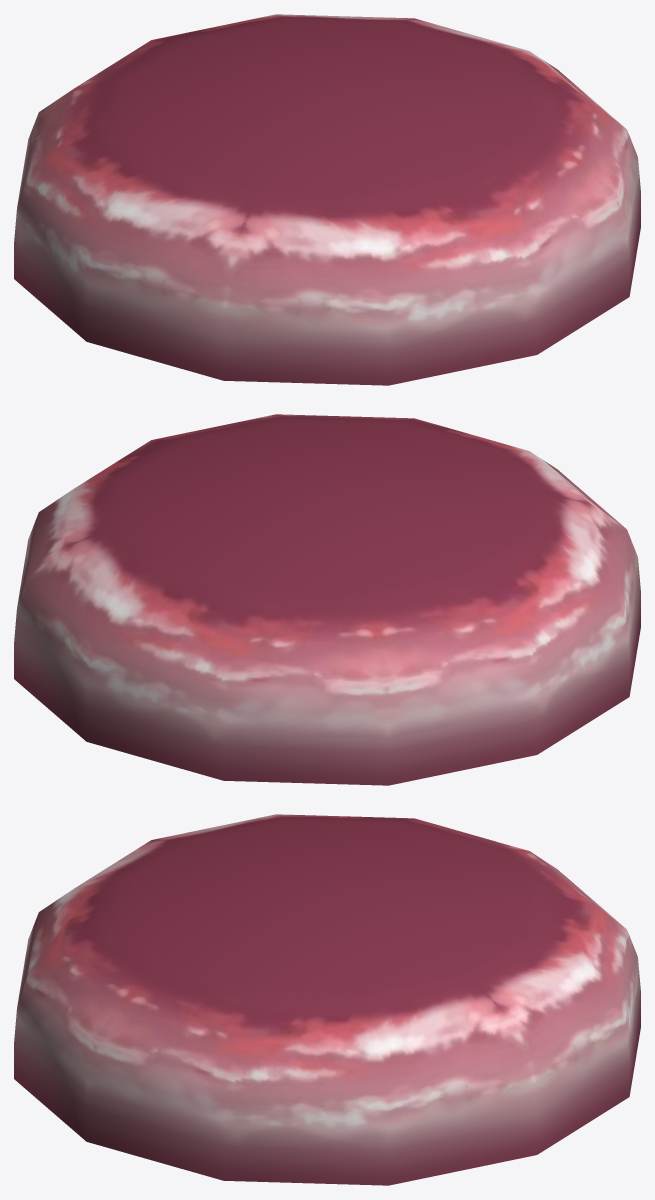
Rendered from fengshachangjing_New.FBX.
3 views of the same model, one above another, from view 1: azimuth 30°, elevation 25°; view 2: azimuth 150°, elevation 25°; view 3: azimuth 270°, elevation 25° (orthographic).
Parts seen in each view (by area): view 1: Object023; view 2: Object023; view 3: Object023.
Part boxes in pixels (bbox=[...]): Object023: bbox=[14, 14, 640, 385]; Object023: bbox=[14, 414, 640, 785]; Object023: bbox=[14, 814, 640, 1185].
Bounding box in the file's own units: 70743 × 20926 × 70743.
